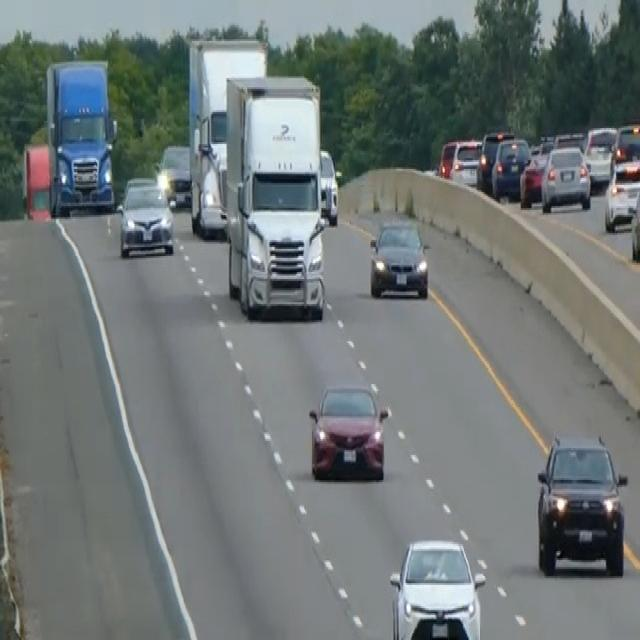car: (387, 535, 486, 638), (307, 378, 389, 482), (368, 215, 429, 299), (116, 174, 174, 258), (540, 142, 591, 212), (490, 135, 531, 201), (476, 126, 513, 192), (519, 139, 553, 208), (157, 142, 192, 208), (395, 612, 481, 638), (583, 122, 617, 186), (438, 135, 481, 185), (319, 146, 339, 224), (630, 174, 639, 263)
jeep: (534, 430, 629, 578)
lorry: (223, 71, 328, 322), (44, 55, 118, 217)
